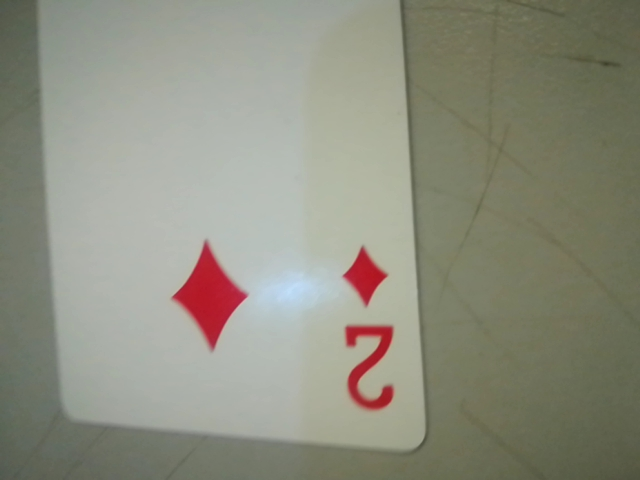fk 2: (321, 232, 412, 424)
